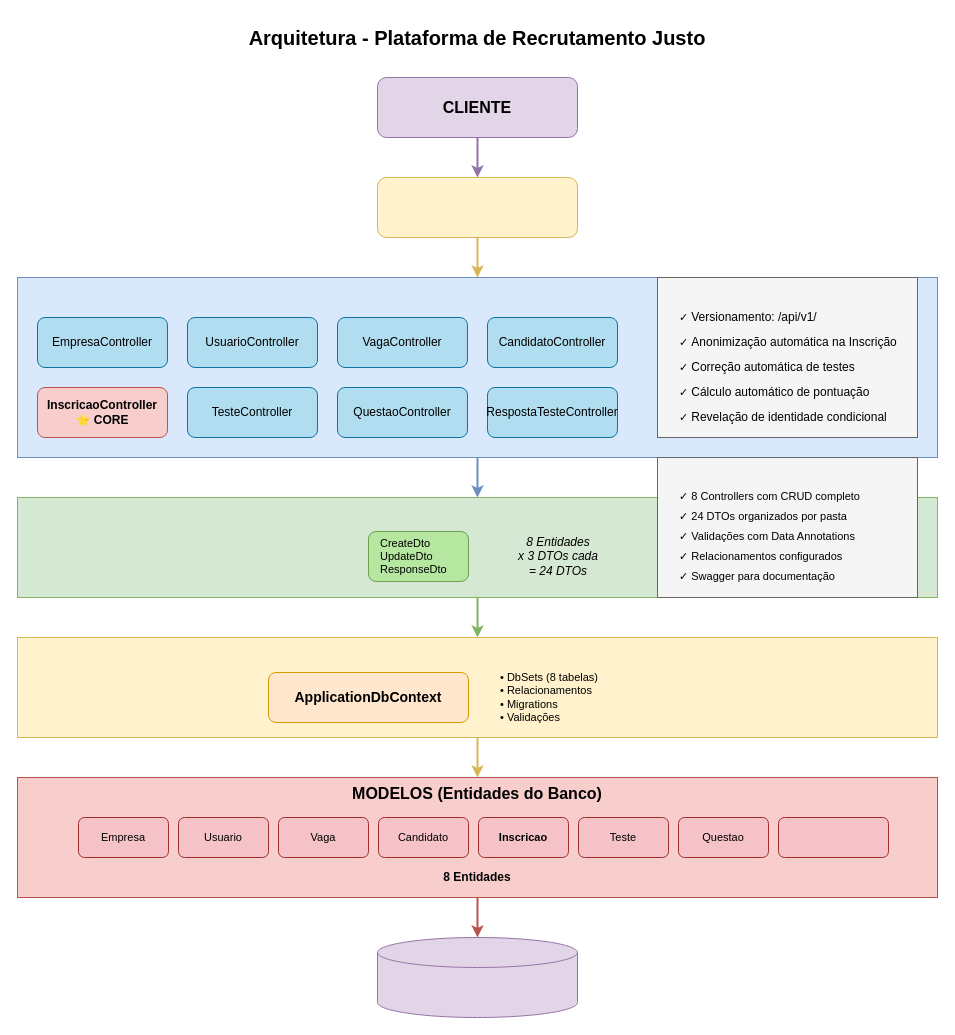
Image size: 955x1035. Some labels were removed from this diagram. Here are the shapes that lost their labels. From the top down, the box of each, then its label:
(376, 176, 578, 238): Swagger UI (Documentação Interativa)
(16, 276, 938, 458): CAMADA DE API (Controllers)
(656, 276, 918, 438): LEGENDA
(16, 496, 938, 598): CAMADA DE DTOs (Data Transfer Objects)
(656, 456, 918, 598): RECURSOS IMPLEMENTADOS
(16, 636, 938, 738): CAMADA DE DADOS (Entity Framework Core)
(778, 816, 888, 858): RespostaTeste
(376, 936, 578, 1018): SQL SERVER RecrutamentoJustoDB
